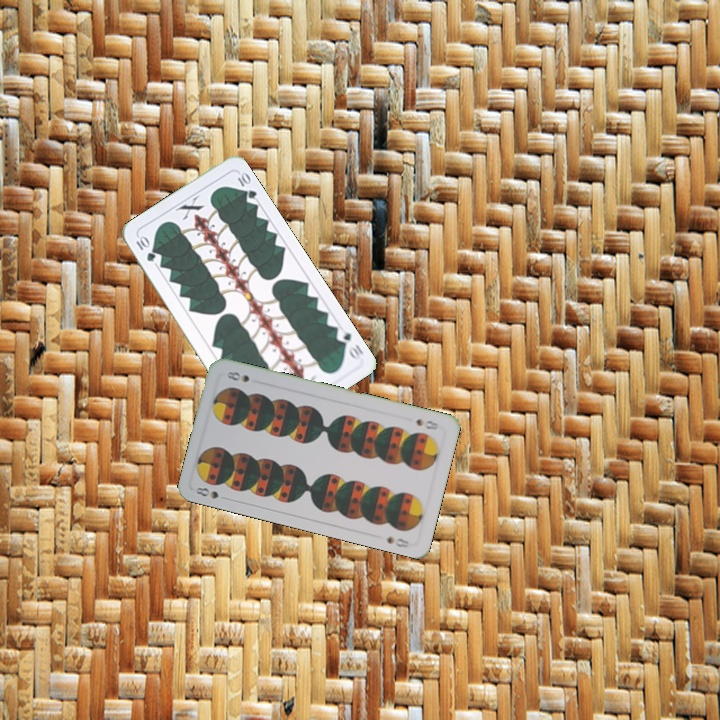G10: (332, 327, 366, 362), (132, 232, 158, 264)
S8: (191, 483, 231, 503), (412, 415, 441, 433)
